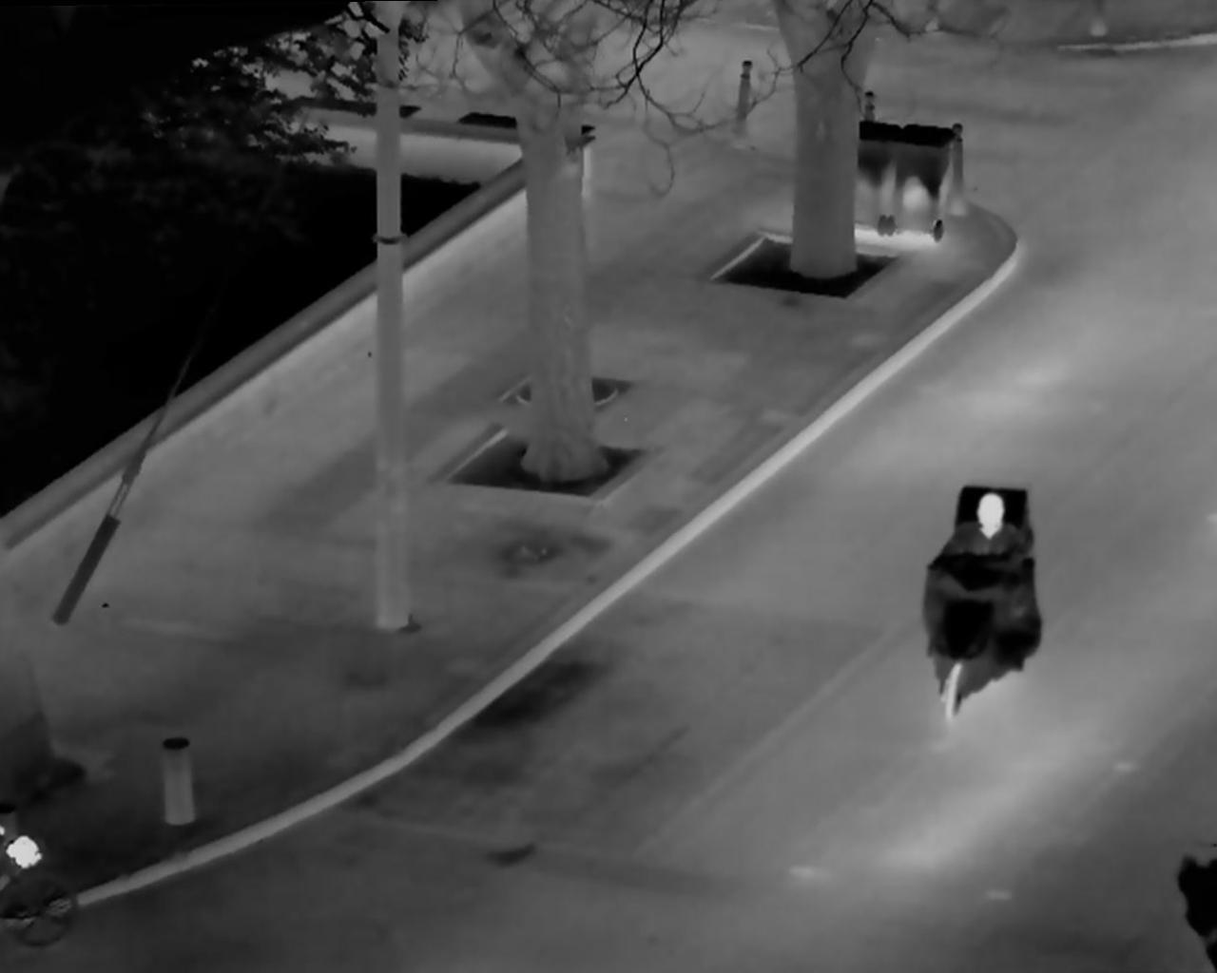person: (937, 476, 1034, 685)
